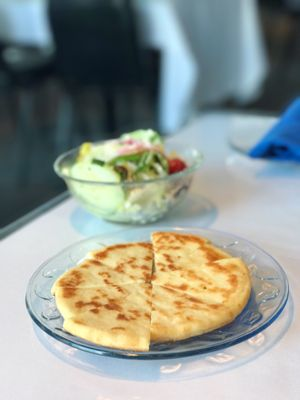sushi: (53, 132, 204, 225)
